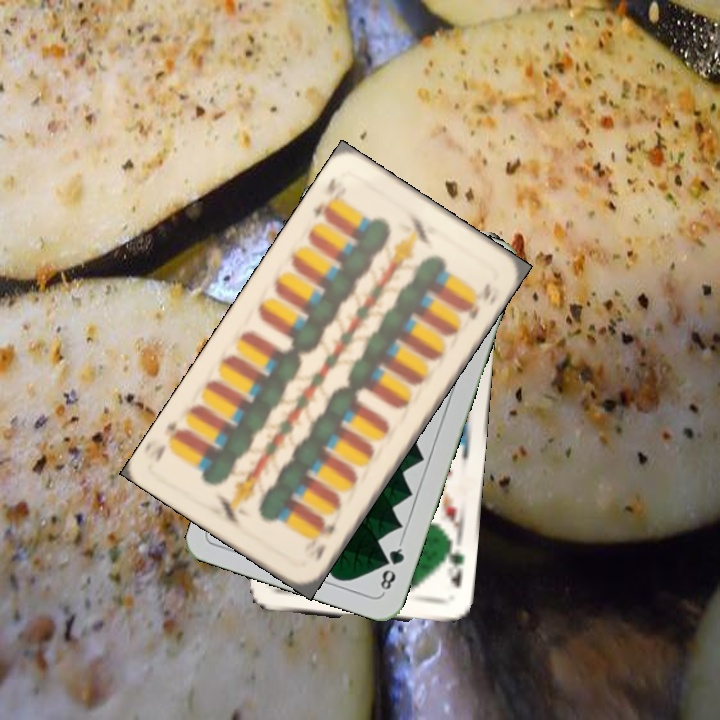E10: (309, 174, 339, 224), (311, 517, 339, 563)
G8: (376, 538, 407, 596)
GK: (441, 541, 468, 589)
